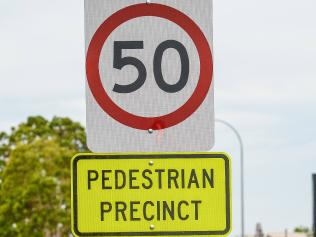Speed_limit_50km: (83, 3, 214, 131)
